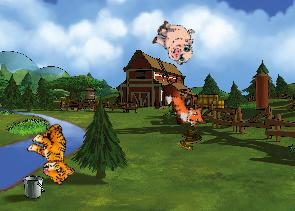fox: (159, 74, 212, 135)
pig: (147, 15, 201, 68)
tiger: (20, 118, 89, 188)
